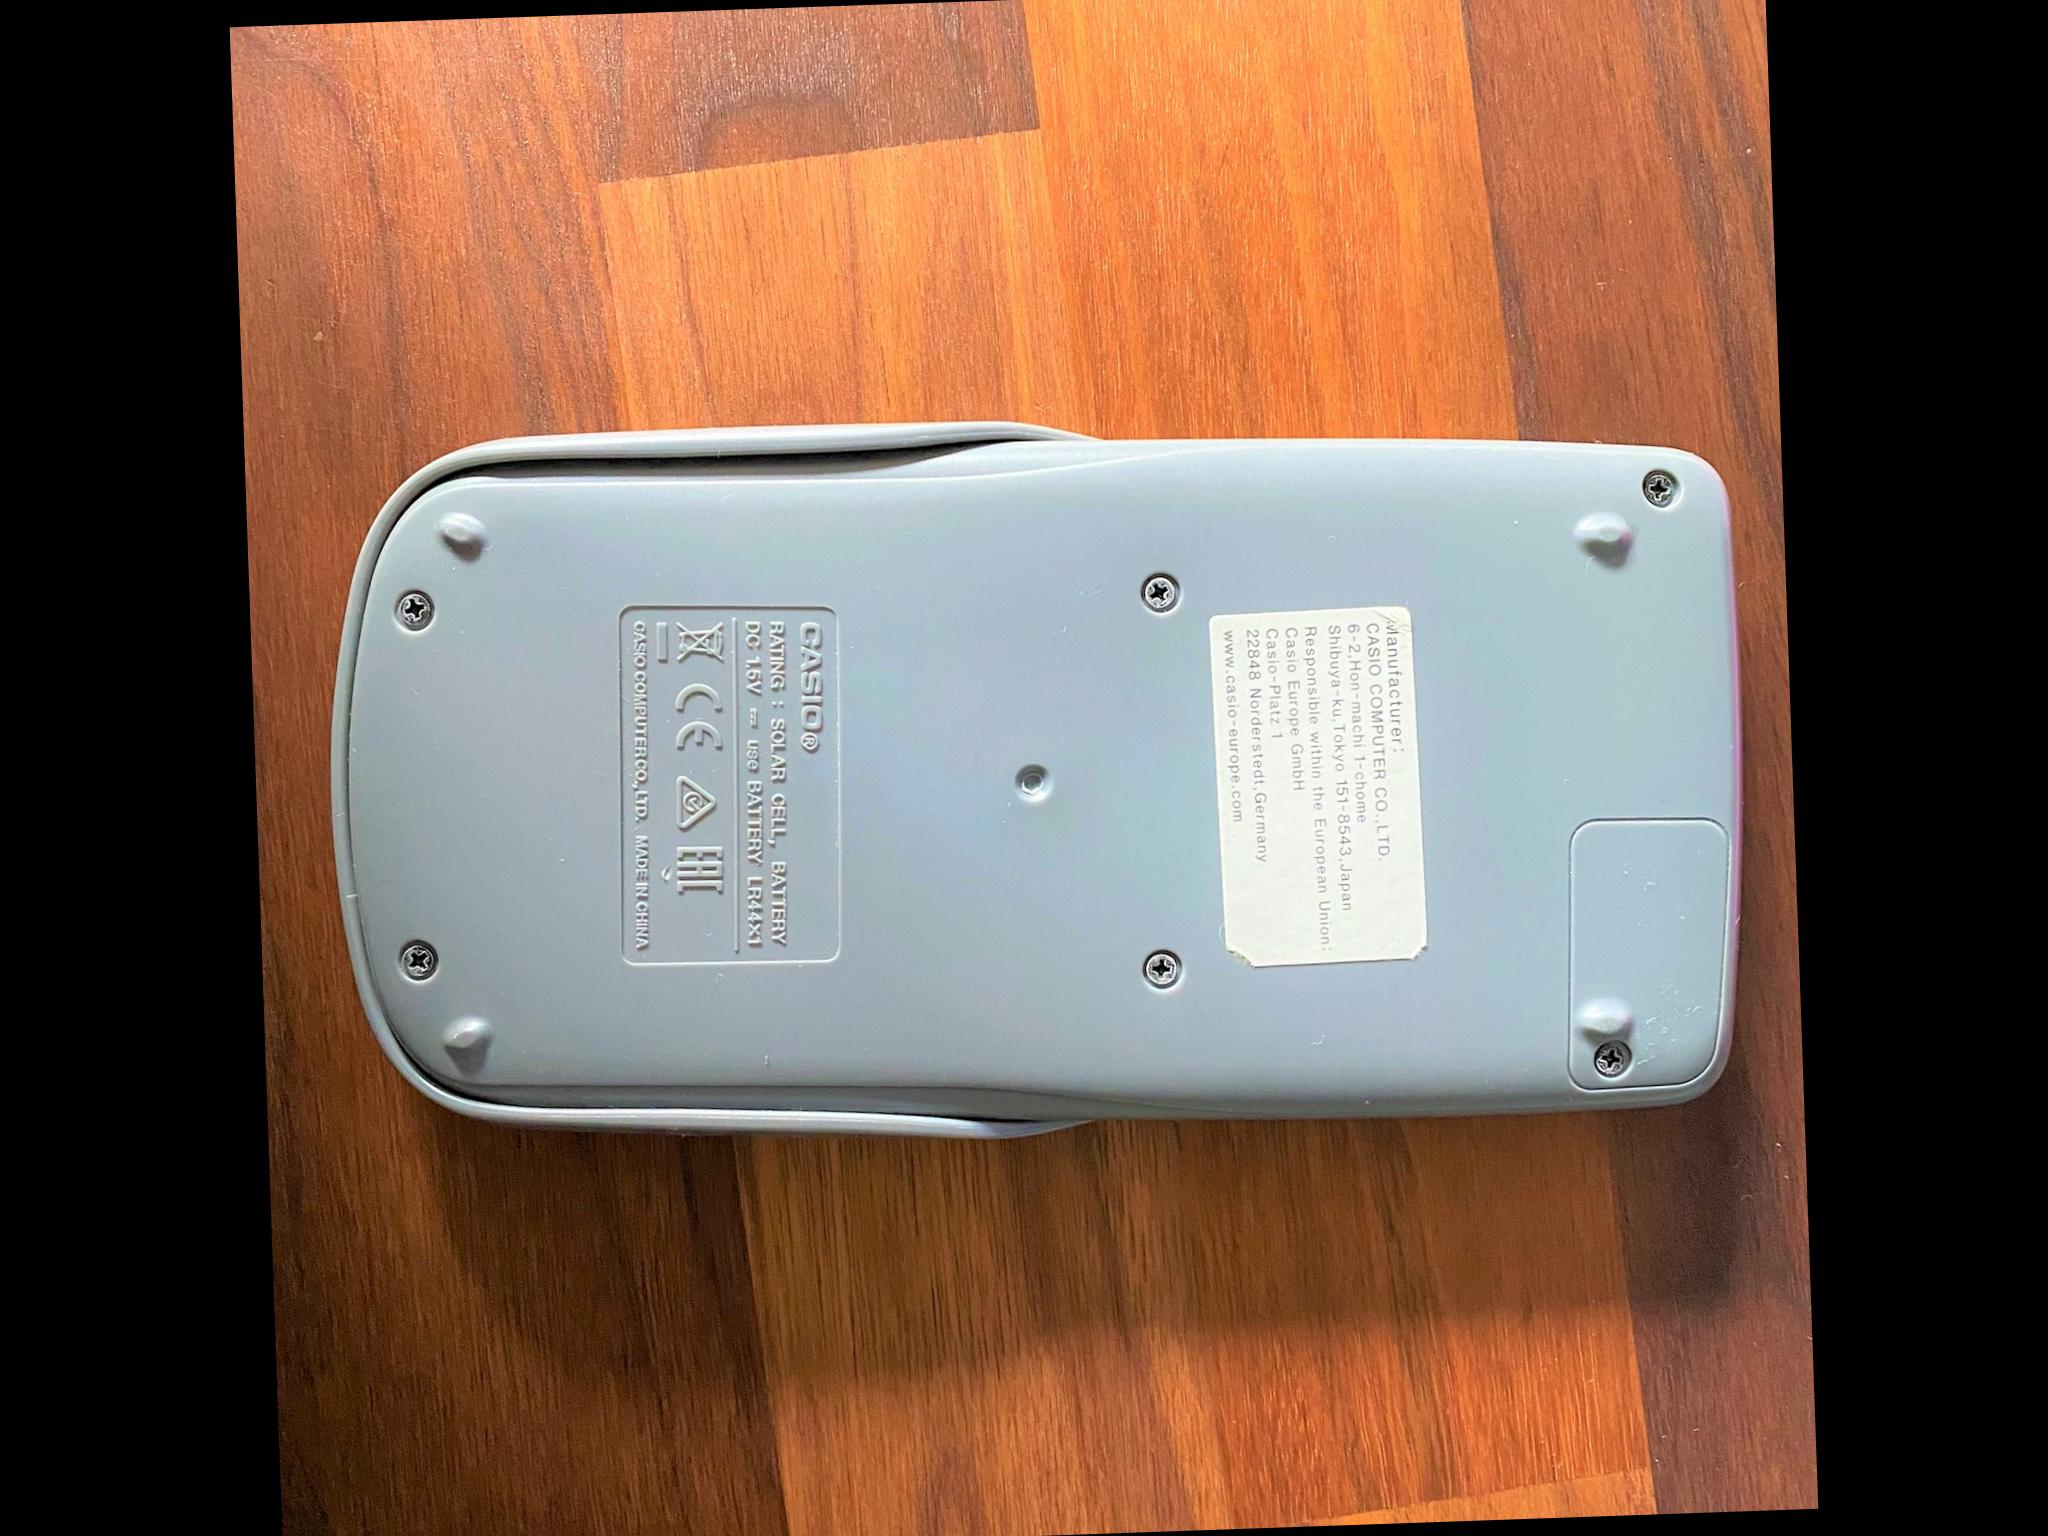PH: (1142, 573, 1180, 615), (400, 942, 437, 981), (1640, 468, 1680, 503), (1595, 1041, 1634, 1076), (397, 591, 431, 629), (1147, 952, 1180, 984)
